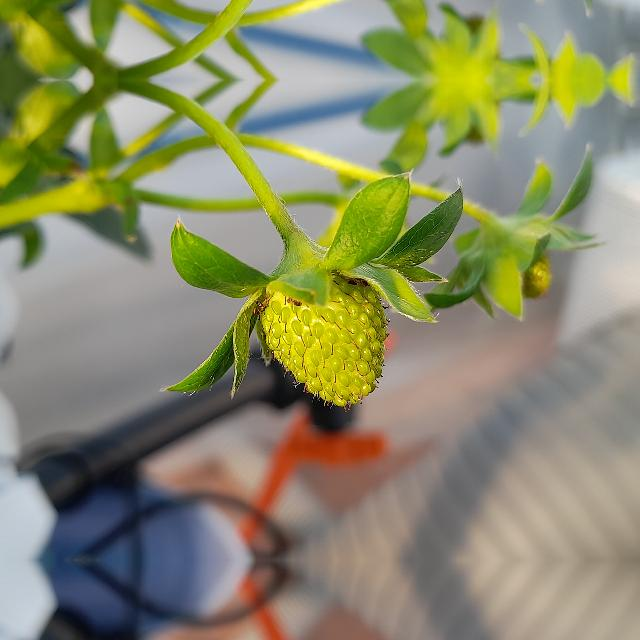Health_25: (259, 270, 389, 412)
